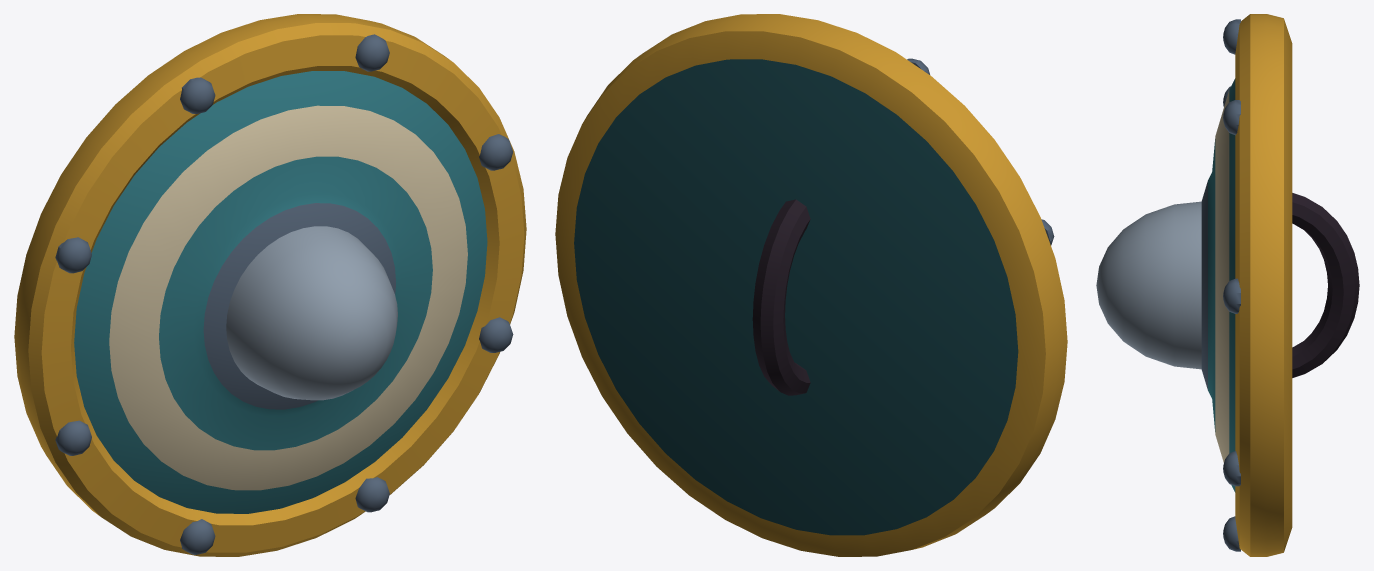
Rendered from RoundShield_24.glb.
3 renders of one model, left to right at view 1: azimuth 30°, elevation 25°; view 2: azimuth 150°, elevation 25°; view 3: azimuth 270°, elevation 25°, orthographic. The views are drawn at different scales.
Visible parts, largest first — view 1: RoundShield_24; view 2: RoundShield_24; view 3: RoundShield_24.
Part boxes in pixels (<box>): RoundShield_24: <box>14,14,526,556</box>; RoundShield_24: <box>555,14,1067,556</box>; RoundShield_24: <box>1096,14,1359,556</box>.
Bounding box in the file's own units: 2.58 × 2.58 × 1.25.
